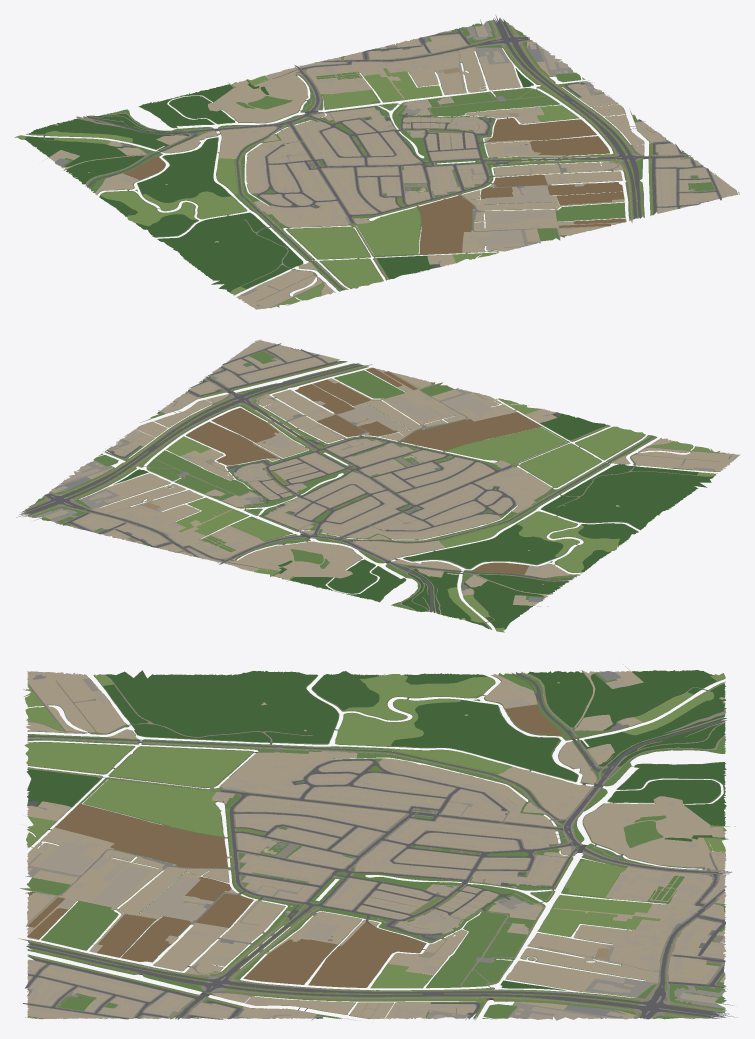
File: maquette.glb
3 renders of one model, top to bottom at view 1: azimuth 30°, elevation 25°; view 2: azimuth 150°, elevation 25°; view 3: azimuth 270°, elevation 25°, orthographic. The views are drawn at different scales.
Parts seen in each view (by area): view 1: terrein, groen, wegen; view 2: terrein, groen, wegen; view 3: terrein, groen, wegen.
Boxes of the visible parts, bbox=[...] form: terrein: bbox=[22, 18, 739, 309]; groen: bbox=[14, 19, 737, 308]; wegen: bbox=[27, 15, 722, 307]; terrein: bbox=[20, 339, 740, 630]; groen: bbox=[30, 340, 731, 632]; wegen: bbox=[16, 343, 724, 629]; terrein: bbox=[20, 664, 726, 1020]; groen: bbox=[20, 670, 735, 1019]; wegen: bbox=[19, 671, 736, 1020].
Size of the model in its own units: 1467 by 17.11 by 1251.
